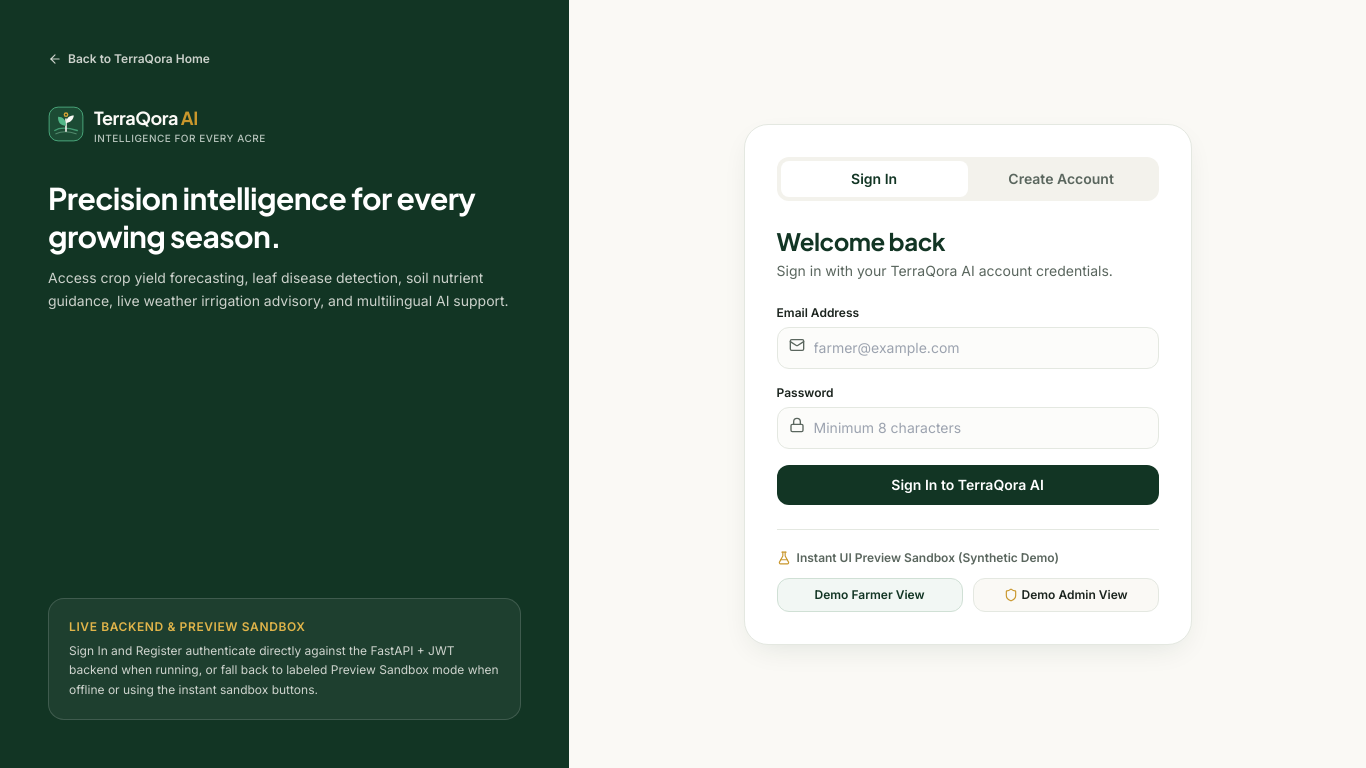
Test case: TerraQora AI — Phase 3 Frontend Suite › redirects unauthenticated access on protected route to /auth and validates login form
Expected: the heading "Welcome back" is shown, [777,226,945,256]
Click the button "Sign In to TerraQora AI" at [968, 484], box [777,464,1159,504]
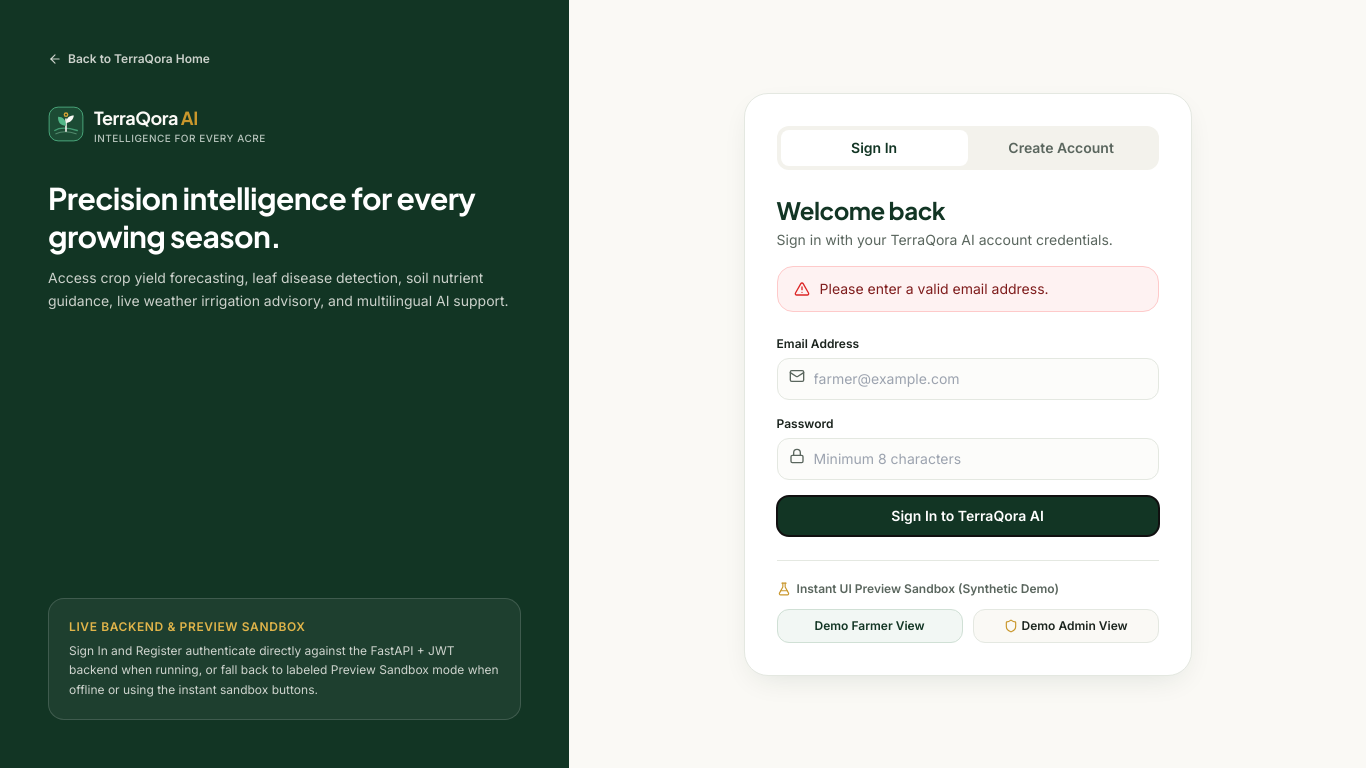
Now the text "Please enter a valid email address." is shown, box [820,278,1049,298]
